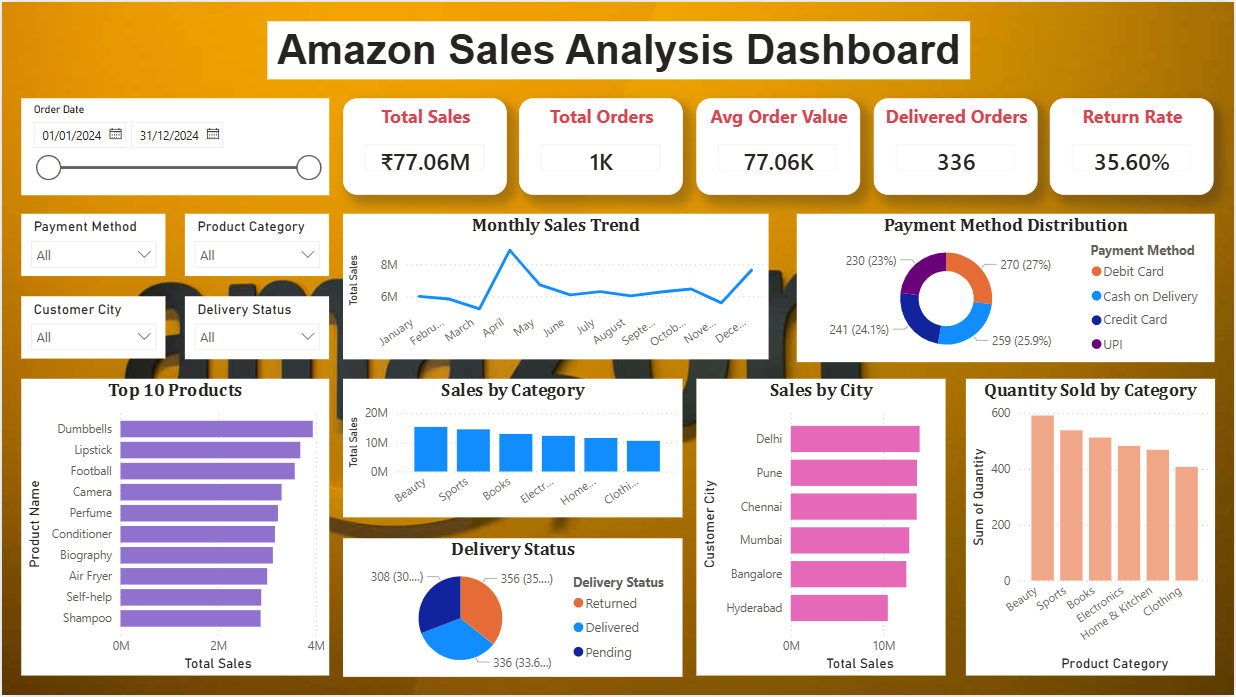

Layout of this report page (visuals, bound fields, positions):
{"tool":"powerbi","page":{"name":"Page 1","canvas":[1280,720],"ordinal":0},"visuals":[{"type":"cardVisual","title":"Total Sales","fields":{"Data":["Sum(Amazon Sales Data.Total Sales (₹))"]},"box":[353.9,100.4,170.3,100.4],"z":0},{"type":"lineChart","title":"Monthly Sales Trend","fields":{"Category":["DateTable.Month"],"Y":["Amazon Sales Data.Total Sales"]},"box":[354.3,220,442,151.4],"z":0},{"type":"cardVisual","title":"Total Orders","fields":{"Data":["Amazon Sales Data.Total"]},"box":[537.7,100.4,170.3,100.4],"z":1000},{"type":"clusteredColumnChart","title":"Sales by Category","fields":{"Category":["Amazon Sales Data.Product Category"],"Y":["Amazon Sales Data.Total Sales"]},"box":[354.3,391.4,352.9,144.3],"z":1000},{"type":"donutChart","title":"Payment Method Distribution","fields":{"Category":["Amazon Sales Data.Payment Method"],"Y":["Amazon Sales Data.Total Orders"]},"box":[825.7,220,434.3,154.3],"z":2000},{"type":"pieChart","title":"Delivery Status","fields":{"Category":["Amazon Sales Data.Delivery Status"],"Y":["Amazon Sales Data.Total Orders"]},"box":[354.3,557.1,352.9,144.3],"z":3000},{"type":"barChart","title":"Sales by City","fields":{"Category":["Amazon Sales Data.Customer City"],"Y":["Amazon Sales Data.Total Sales"]},"box":[721.4,391.4,259,308.6],"z":4000},{"type":"cardVisual","title":"Avg Order Value","fields":{"Data":["Amazon Sales Data.Avg Order Value"]},"box":[721.6,100.4,170.3,100.4],"z":5000,"group":"g1"},{"type":"barChart","title":"Top 10 Products","fields":{"Category":["Amazon Sales Data.Product Name"],"Y":["Amazon Sales Data.Total Sales"]},"box":[20,391,320,308.6],"z":5000},{"type":"columnChart","title":"Quantity Sold by Category","fields":{"Category":["Amazon Sales Data.Product Category"],"Y":["Sum(Amazon Sales Data.Quantity)"]},"box":[1001.4,391.4,258.6,308.6],"z":6000},{"type":"slicer","fields":{"Values":["Amazon Sales Data.Order Date"]},"box":[20.3,100.4,320,100.4],"z":7000},{"type":"cardVisual","title":"Delivered Orders","fields":{"Data":["Amazon Sales Data.Delivered Orders"]},"box":[905.5,100.4,170.3,100],"z":7000,"group":"g1"},{"type":"textbox","box":[275,20,730,60],"z":8000},{"type":"cardVisual","title":"Return Rate","fields":{"Data":["Amazon Sales Data.Return Rate"]},"box":[1089.3,100.4,170.3,100.4],"z":9000,"group":"g1"},{"type":"slicer","fields":{"Values":["Amazon Sales Data.Product Category"]},"box":[190,220,150,65],"z":9000},{"type":"slicer","fields":{"Values":["Amazon Sales Data.Customer City"]},"box":[20.3,305,150,65],"z":10000},{"type":"slicer","fields":{"Values":["Amazon Sales Data.Payment Method"]},"box":[20.3,220,150,65],"z":11000},{"type":"slicer","fields":{"Values":["Amazon Sales Data.Delivery Status"]},"box":[190,305,150,65.7],"z":12000},{"type":"group","id":"g1","title":"Group 1","box":[721.6,100.4,538,100.4],"z":12001}]}

Visuals, with their boxes in screenshot pixels (x1, y1, x2, y2), scaled from the page's 1280x720 canvas onto the 1236x697 screenshot:
"Total Sales" cardVisual: detection(342, 97, 506, 194)
"Monthly Sales Trend" lineChart: detection(342, 213, 769, 360)
"Total Orders" cardVisual: detection(519, 97, 684, 194)
"Sales by Category" clusteredColumnChart: detection(342, 379, 683, 519)
"Payment Method Distribution" donutChart: detection(797, 213, 1217, 362)
"Delivery Status" pieChart: detection(342, 539, 683, 679)
"Sales by City" barChart: detection(697, 379, 947, 678)
"Avg Order Value" cardVisual: detection(697, 97, 861, 194)
"Top 10 Products" barChart: detection(19, 379, 328, 677)
"Quantity Sold by Category" columnChart: detection(967, 379, 1217, 678)
slicer - Amazon Sales Data.Order Date: detection(20, 97, 329, 194)
"Delivered Orders" cardVisual: detection(874, 97, 1039, 194)
textbox: detection(266, 19, 970, 77)
"Return Rate" cardVisual: detection(1052, 97, 1216, 194)
slicer - Amazon Sales Data.Product Category: detection(183, 213, 328, 276)
slicer - Amazon Sales Data.Customer City: detection(20, 295, 164, 358)
slicer - Amazon Sales Data.Payment Method: detection(20, 213, 164, 276)
slicer - Amazon Sales Data.Delivery Status: detection(183, 295, 328, 359)
"Group 1" group: detection(697, 97, 1216, 194)
